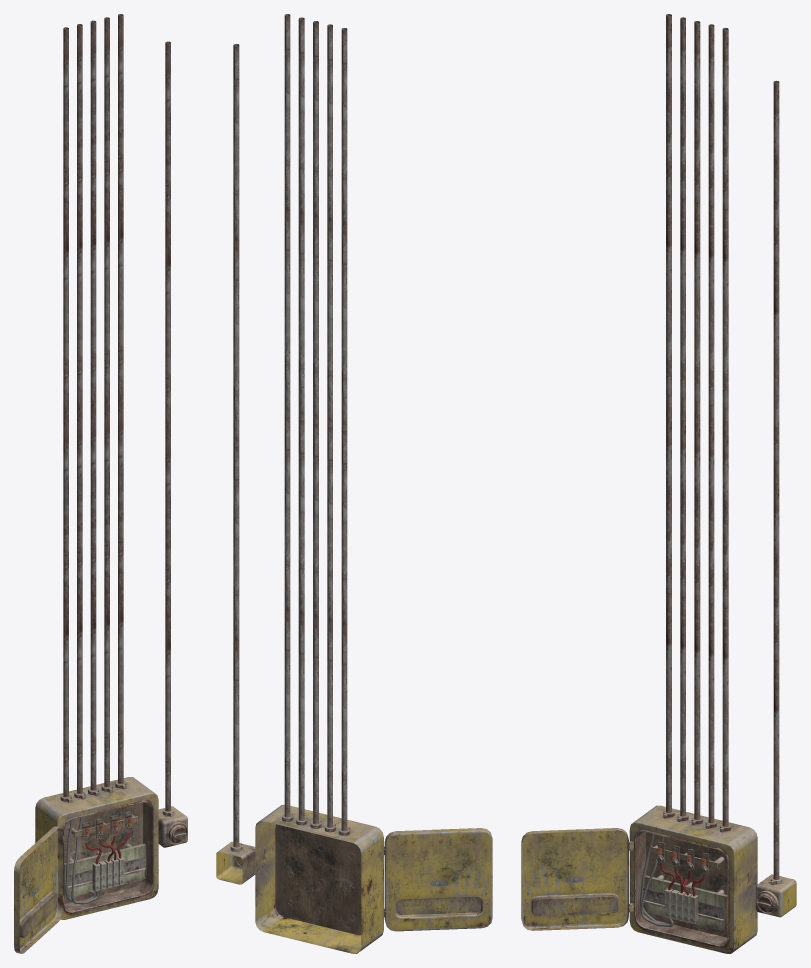
The model's file is SM_ElectriBox02.glb.
The picture shows the model from 3 angles, left to right: view 1: azimuth 30°, elevation 25°; view 2: azimuth 150°, elevation 25°; view 3: azimuth 330°, elevation 25°; orthographic projection. The views are drawn at different scales.
Visible parts, largest first — view 1: SM_ElectriBox02; view 2: SM_ElectriBox02; view 3: SM_ElectriBox02.
Part boxes in pixels (<box>): SM_ElectriBox02: <box>14,14,187,953</box>; SM_ElectriBox02: <box>216,14,492,953</box>; SM_ElectriBox02: <box>521,14,796,953</box>.
Size of the model in its own units: 1.05 by 4.13 by 0.469.
5 materials, 5 textured.
